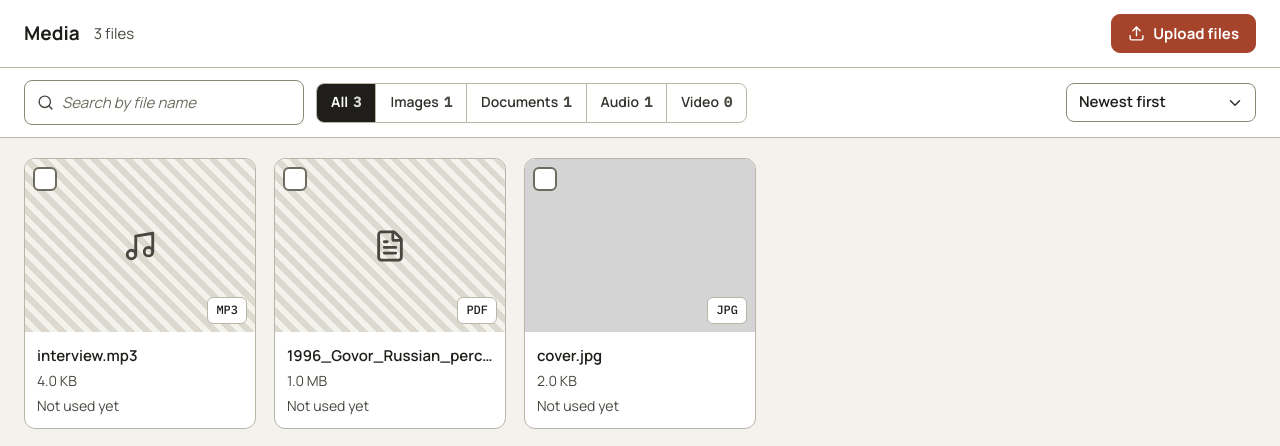
Test case: Media library › filters to documents only
expect the link "cover.jpg" is shown: met, box [537,345,602,366]
Click the button "Documents 1": (526, 103) [466,84,586,122]
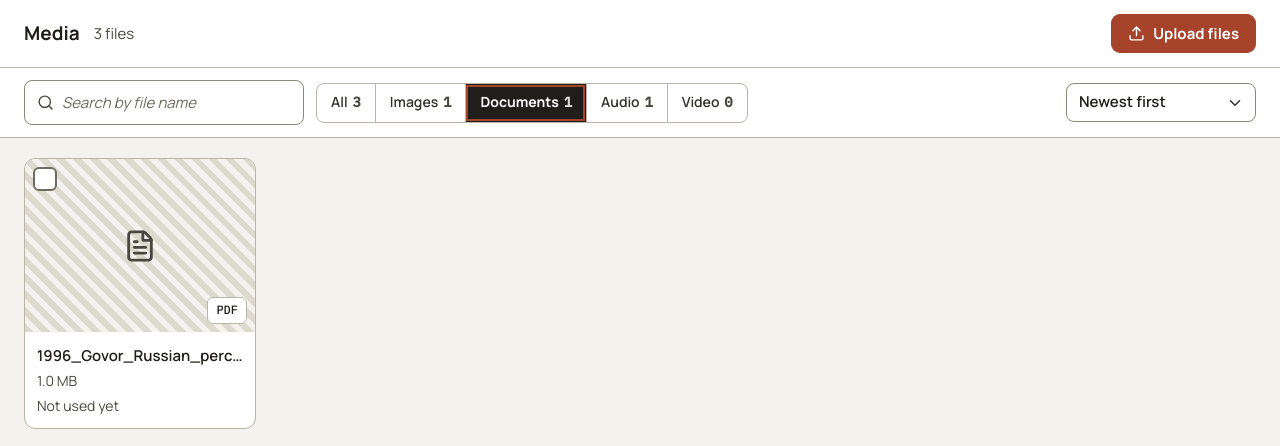
expect the link "1996_Govor_Russian_perceptions.pdf" is shown: met, box [37,344,243,367]
expect the link "cover.jpg" is gone: met
expect the link "interview.mp3" is gone: met
